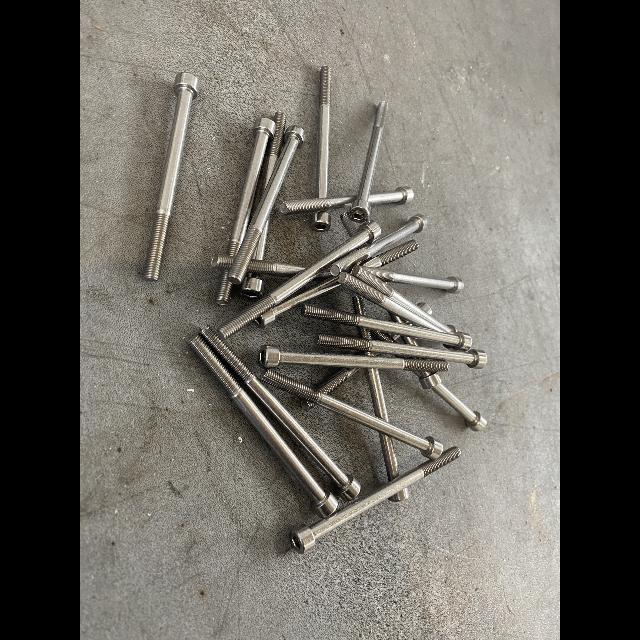Stainless Steel: (197, 325, 361, 501), (189, 339, 338, 518), (217, 220, 381, 340), (291, 448, 460, 554), (261, 369, 443, 460), (229, 126, 305, 284), (143, 72, 198, 281), (301, 303, 472, 352), (351, 265, 458, 334), (338, 272, 450, 334), (226, 118, 275, 256), (314, 333, 487, 370), (330, 214, 427, 276), (258, 345, 449, 372), (349, 101, 387, 223), (254, 276, 341, 329), (362, 266, 464, 294), (433, 382, 486, 430), (262, 111, 286, 190), (316, 66, 330, 198), (280, 195, 357, 214), (365, 240, 418, 267), (316, 368, 360, 395), (367, 370, 388, 420), (247, 259, 305, 276), (379, 433, 399, 481), (368, 186, 414, 205), (253, 220, 269, 260), (215, 270, 231, 305), (240, 273, 263, 297), (339, 212, 358, 237), (418, 371, 441, 390), (310, 211, 330, 232), (370, 331, 398, 343), (211, 255, 233, 269), (388, 312, 407, 325), (391, 490, 408, 502), (417, 302, 432, 315), (402, 336, 419, 346), (301, 399, 316, 410), (353, 300, 364, 314), (359, 328, 371, 339)
